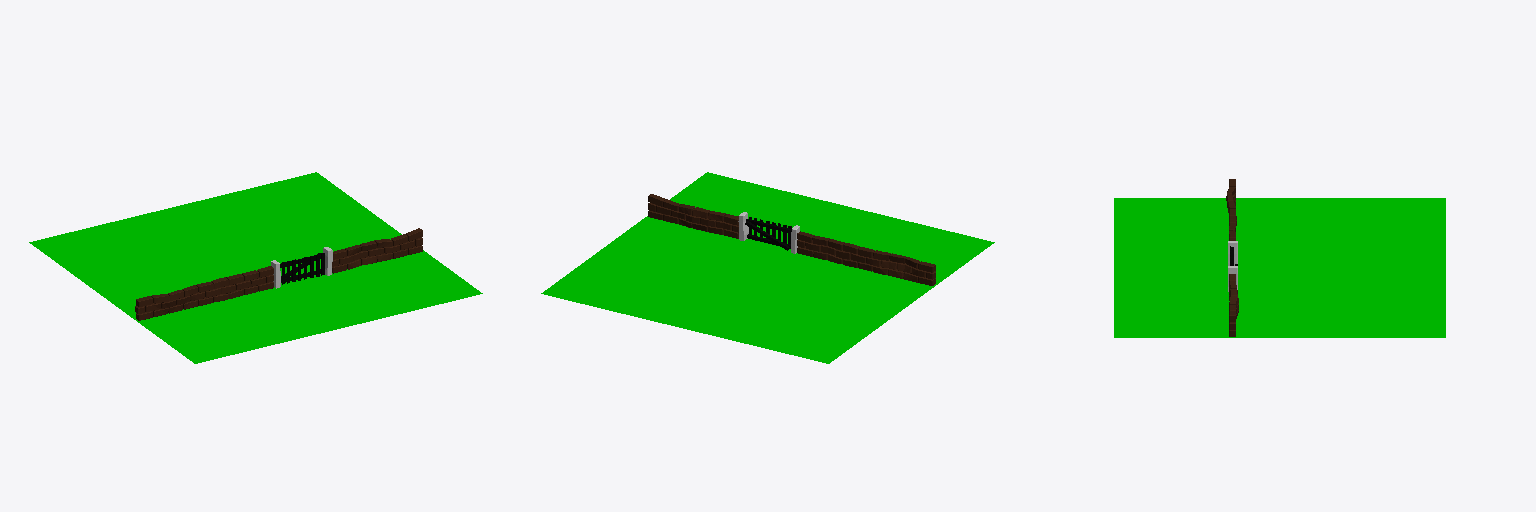
Rendered from Wall.obj.
3 views of the same model, side by side, from view 1: azimuth 30°, elevation 25°; view 2: azimuth 150°, elevation 25°; view 3: azimuth 270°, elevation 25° (orthographic).
Bounding box in the file's own units: 20 × 1.7 × 20.